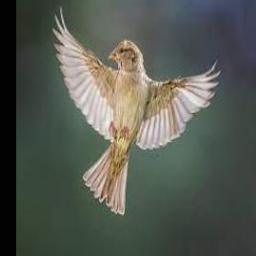Sparrow: (52, 6, 221, 214)
